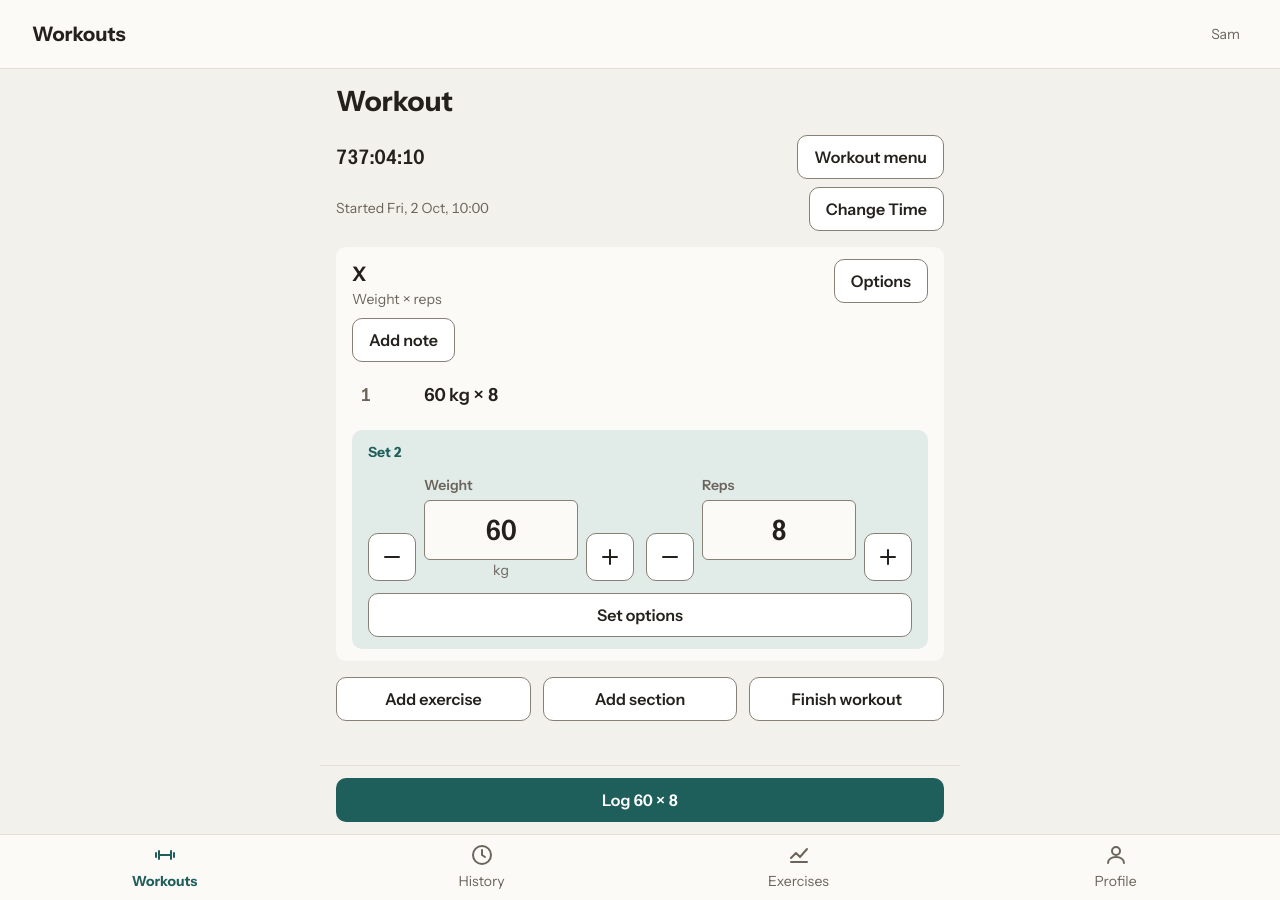
Test: 06.2 AC12 — a synced op updates the cache in place › going online sends the sets in order; rows keep their places; no duplicate
Expected: the heading "Workout" is shown, [336,84,453,118]
Replace the text in the field labelled "Reps" with "5" at x=779, y=530, box [702,500,856,560]
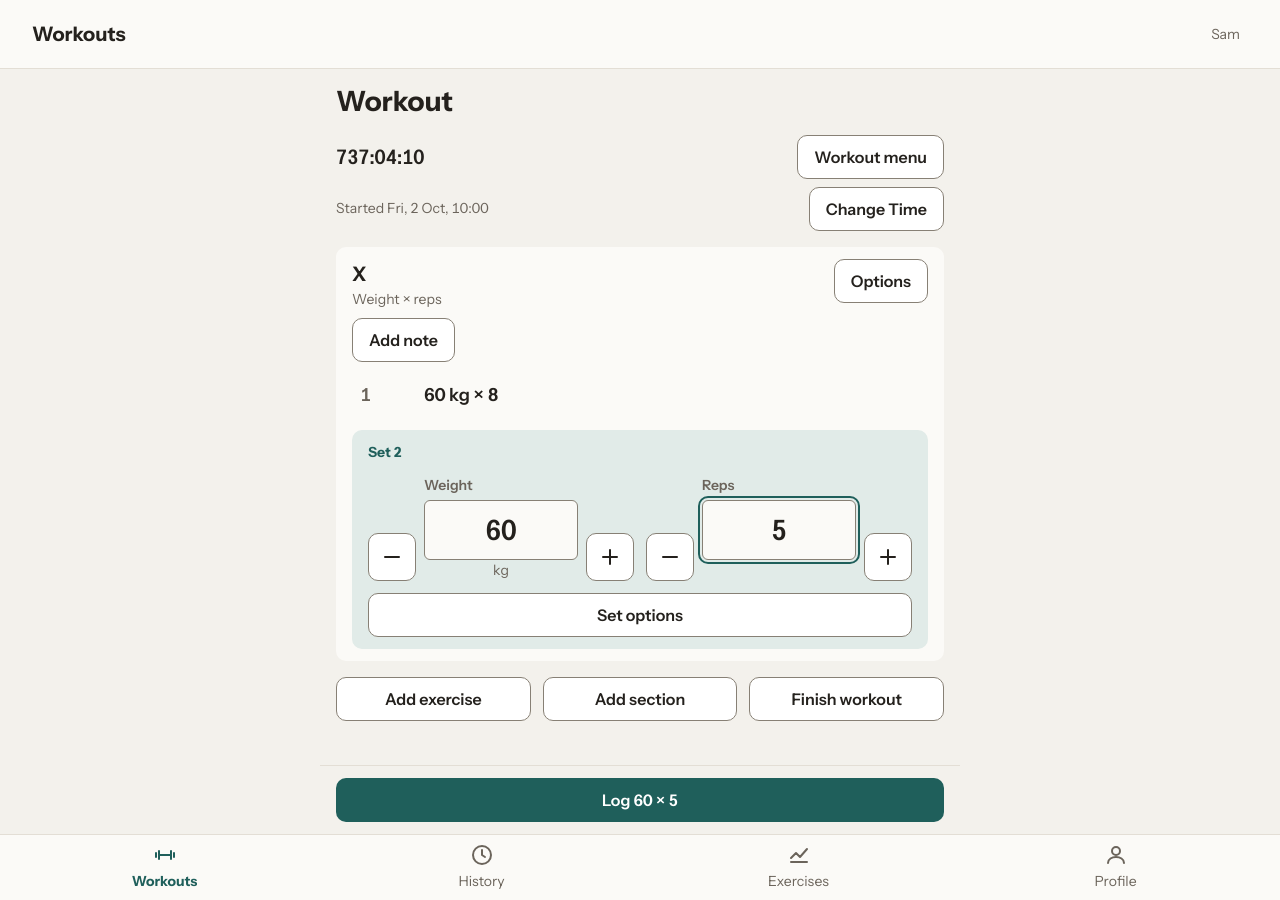
Click the button "Log 60 × 5".
click(640, 800)  # box [336,778,944,822]
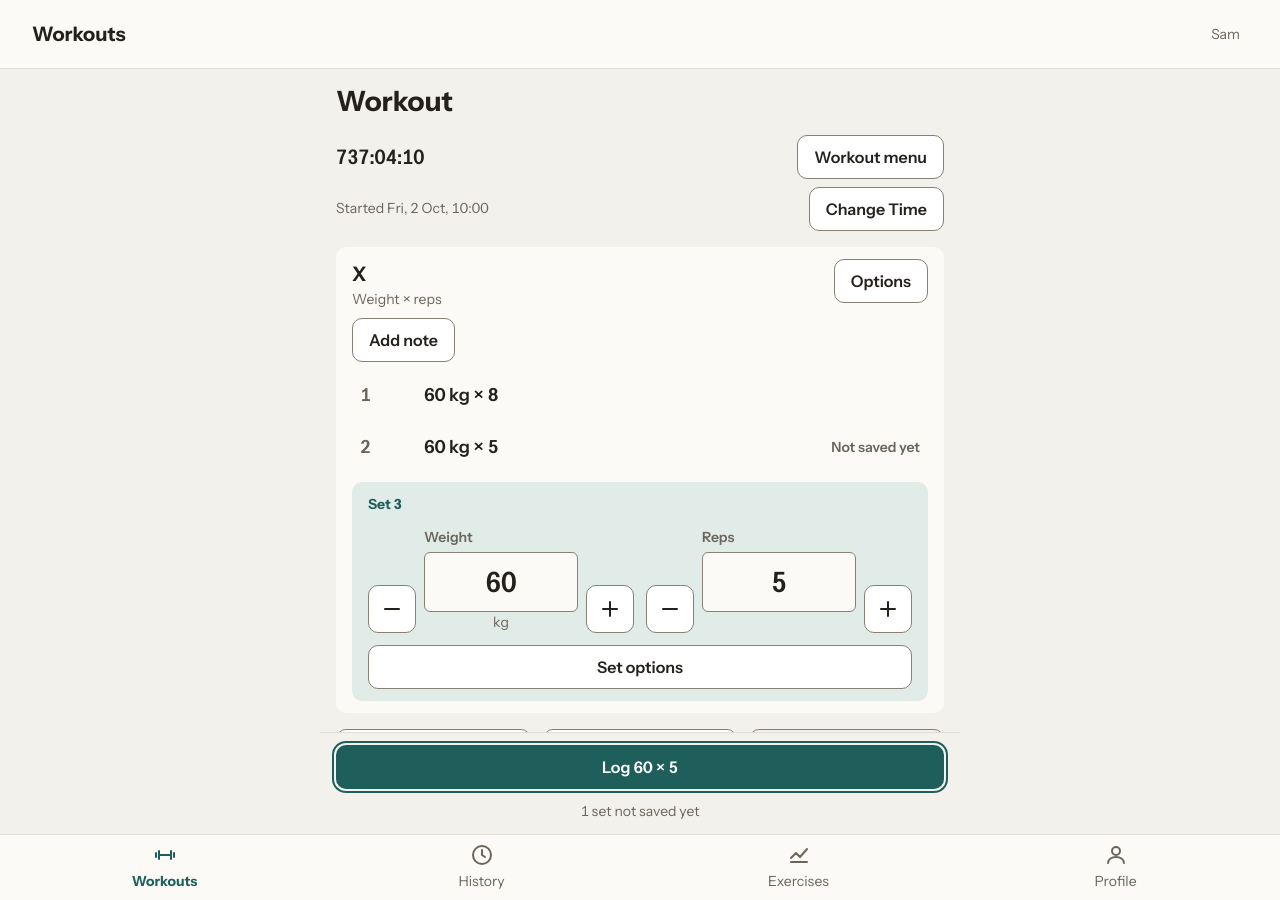
Replace the text in the field labelled "Reps" with "6" at x=779, y=582, box [702,552,856,612]
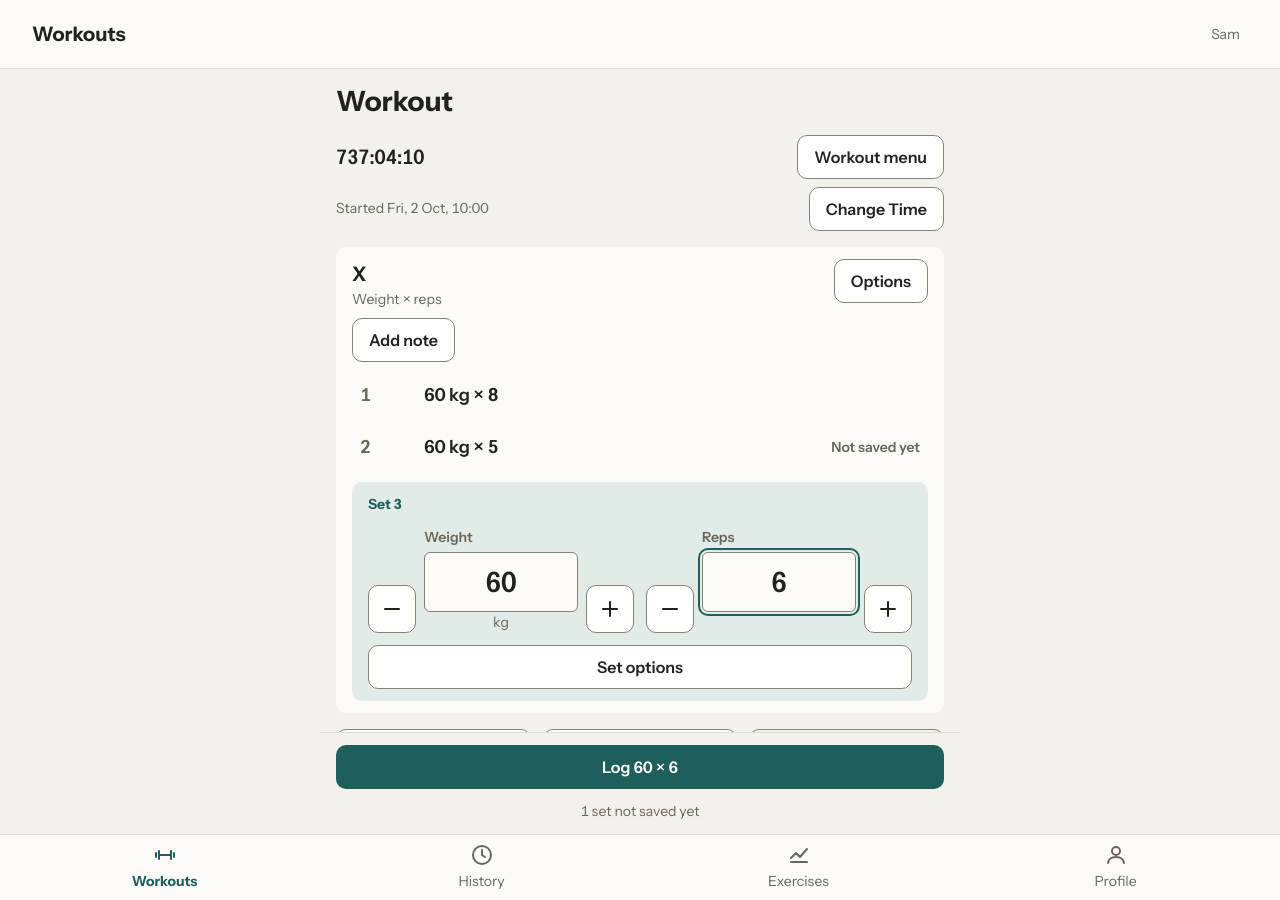
Click the button "Log 60 × 6".
click(640, 767)  # box [336,745,944,789]
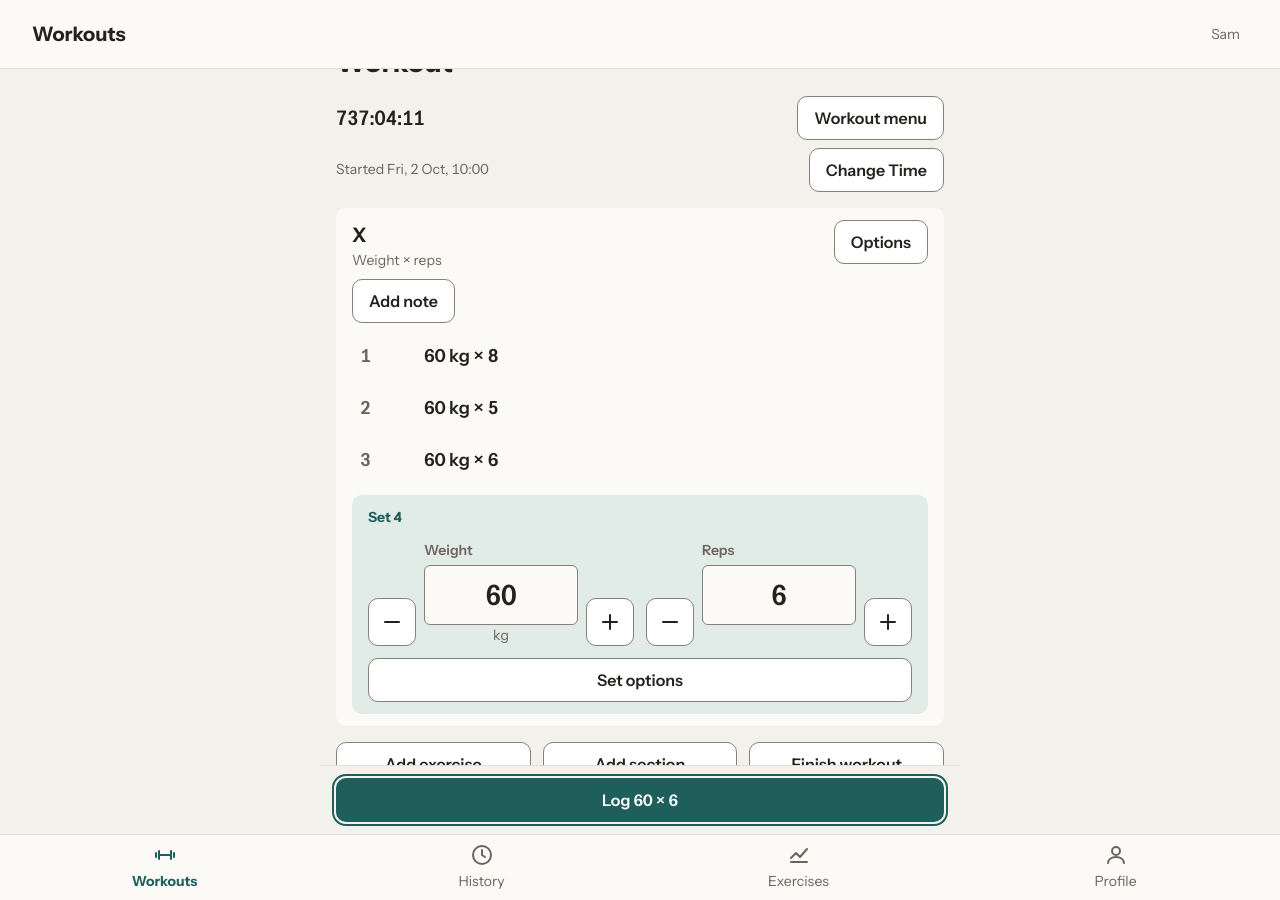
Expected: the number of buttons "1 60 kg × 8" is 3, [352,335,928,379]; [352,387,928,431]; [352,439,928,483]
